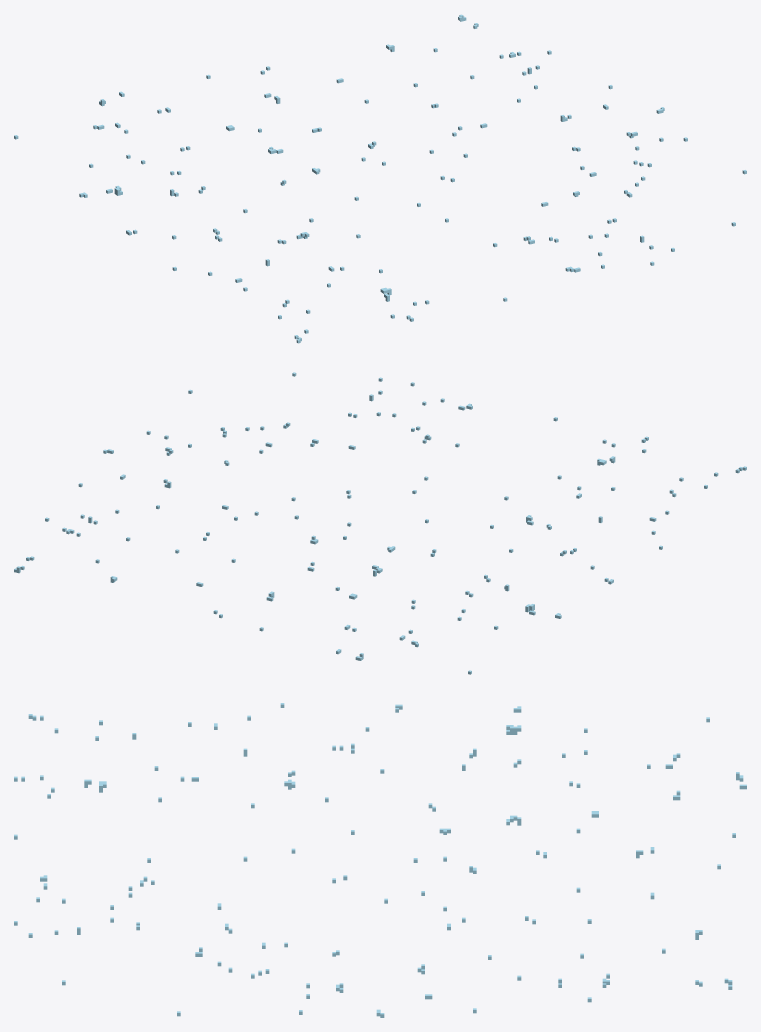
Rendered from CLOUDS.fbx.
3 renders of one model, top to bottom at view 1: azimuth 30°, elevation 25°; view 2: azimuth 150°, elevation 25°; view 3: azimuth 270°, elevation 25°, orthographic. The views are drawn at different scales.
Visible parts, largest first — view 1: CLOUDS; view 2: CLOUDS; view 3: CLOUDS.
Part boxes in pixels (bbox=[...]): CLOUDS: bbox=[14, 14, 746, 343]; CLOUDS: bbox=[14, 372, 746, 674]; CLOUDS: bbox=[14, 703, 746, 1017].
Bounding box in the file's own units: 39800 × 400 × 39600.
